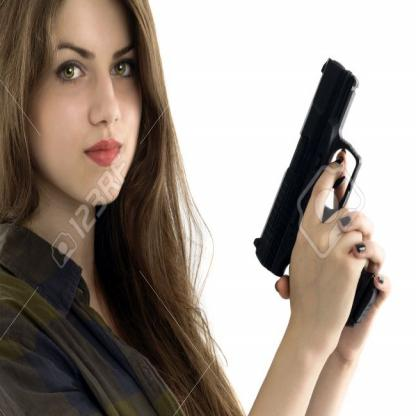gun: (243, 46, 399, 349)
